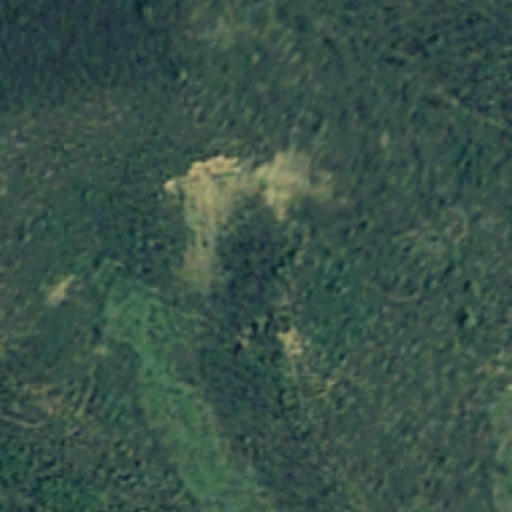landslide: (162, 151, 312, 279)
